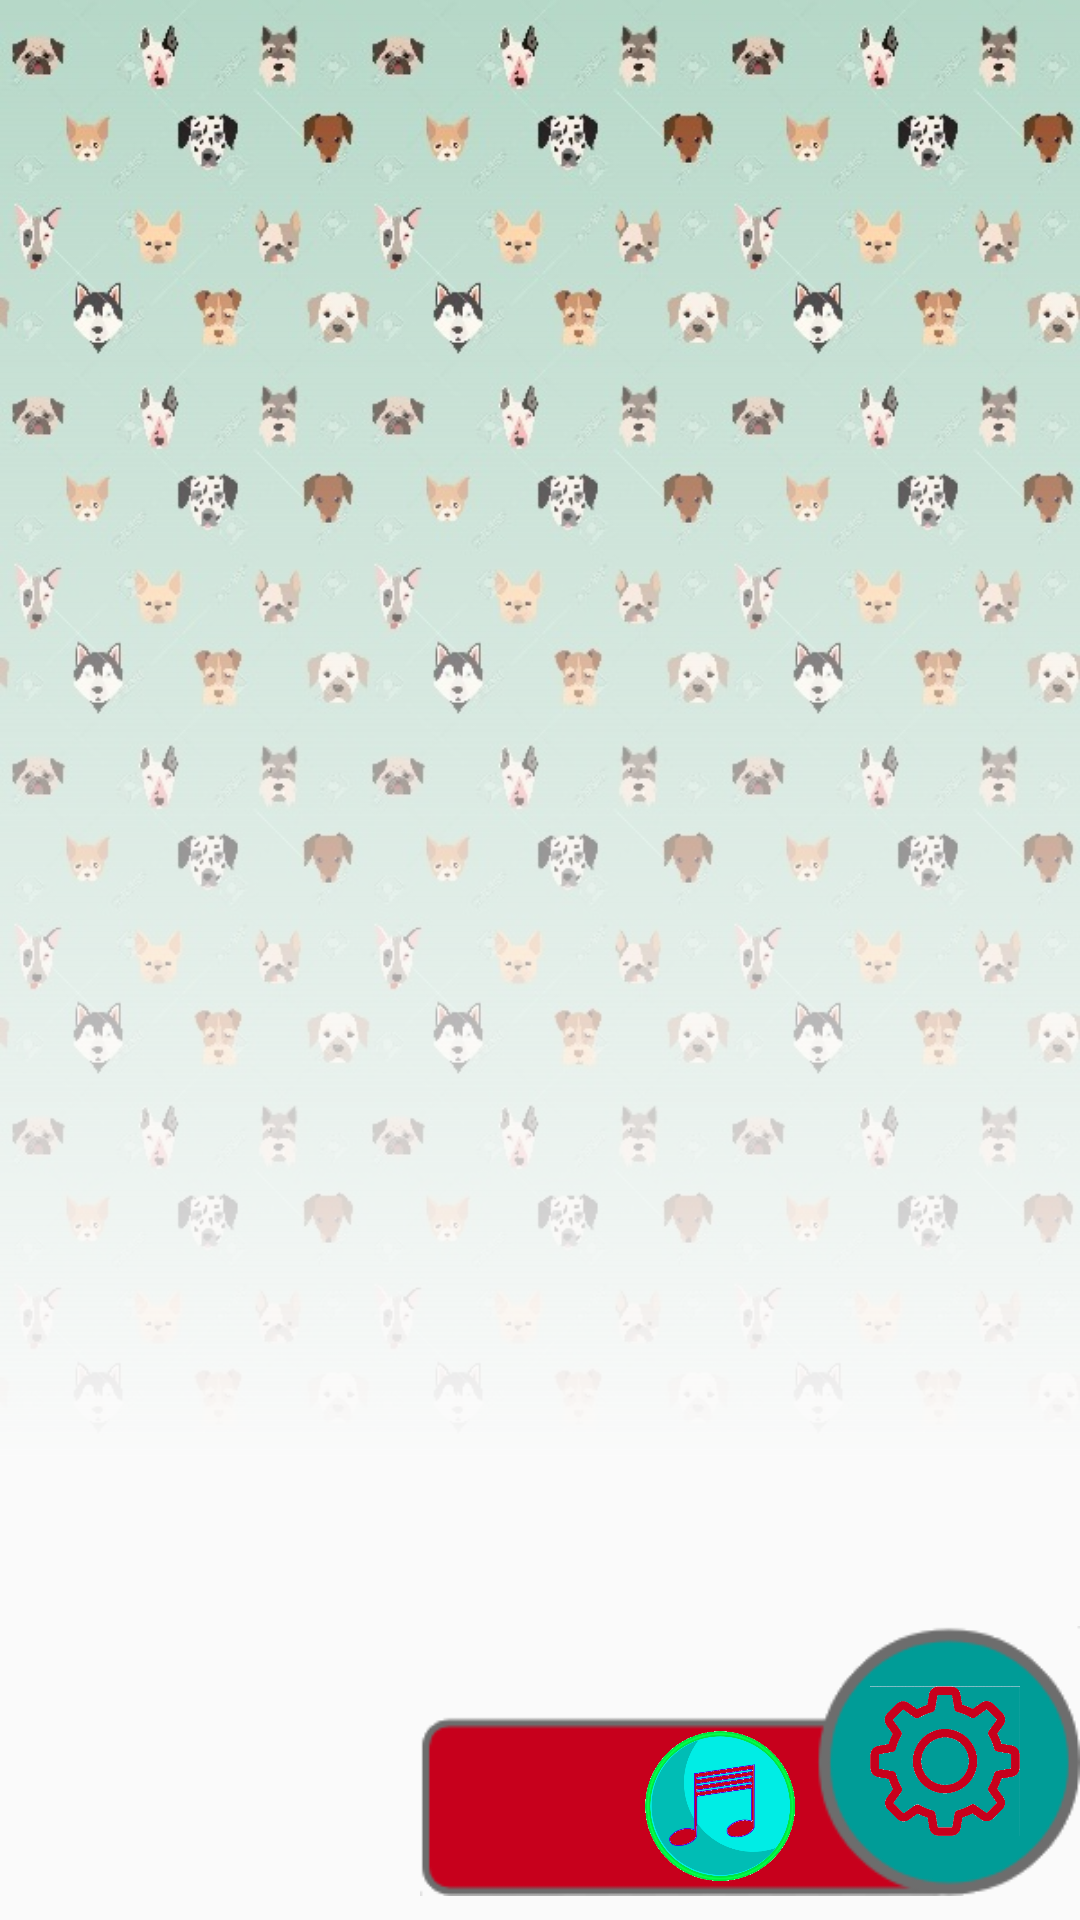

Where to tap for icons on this 1080*1920 app screen, as (x,y):
music on: (720,1806)
setting: (945,1761)
